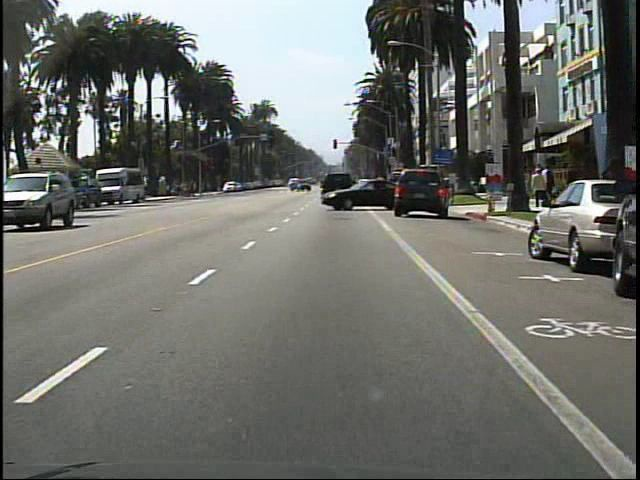person: (541, 160, 558, 208), (372, 169, 389, 206), (532, 167, 546, 208)
